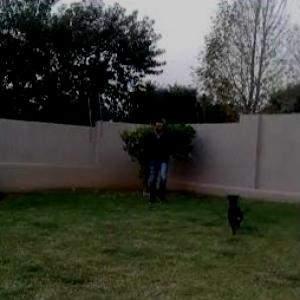land: (128, 108, 206, 212)
